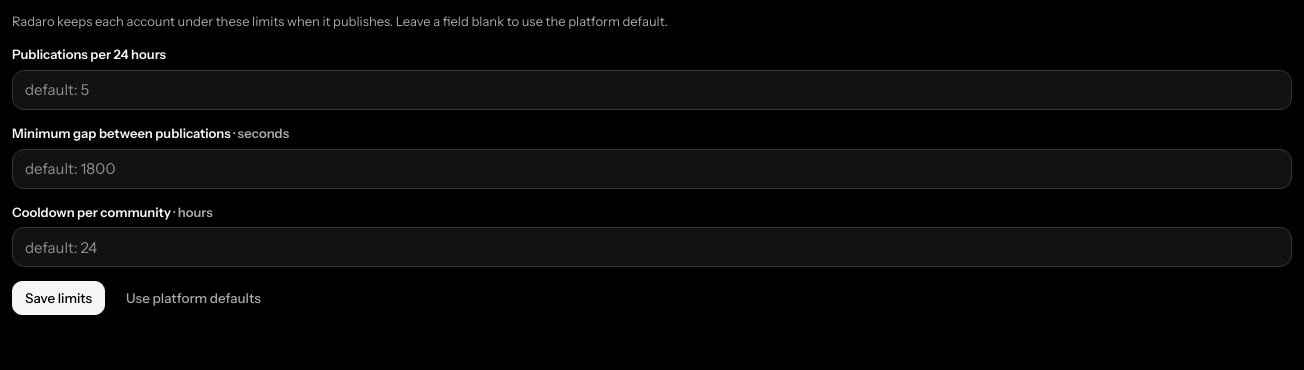
Test: AccountsLimitsForm › rejects anything but a whole number
This screenshot has width=1304, height=370.
Type "2.5" into the field labelled "Publications per 24 hours" at (652, 90), box 12,70 -> 1292,110
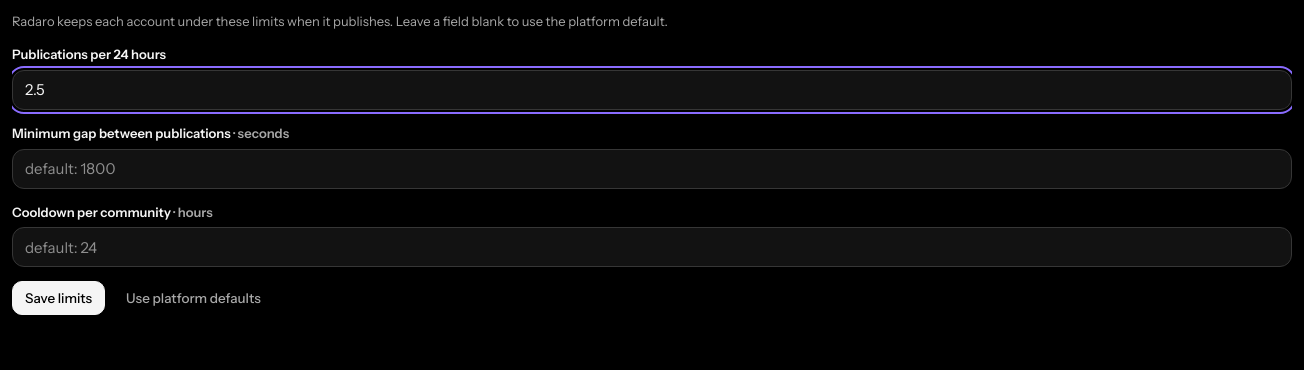
Click the button "Save limits" at (59, 298), box 12,281 -> 105,315
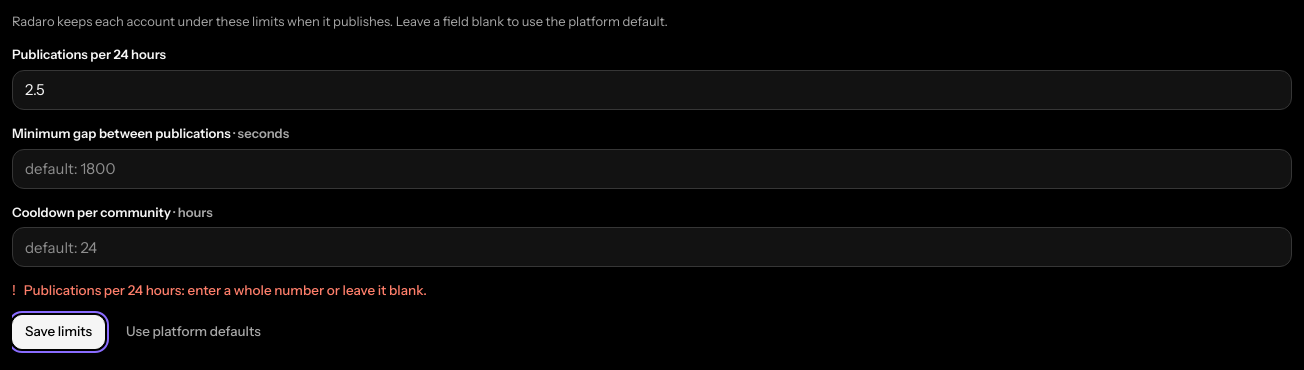
Expected: the message shows "Publications per 24 hours: enter a whole number or leave it blank.", 24,282 -> 427,298
